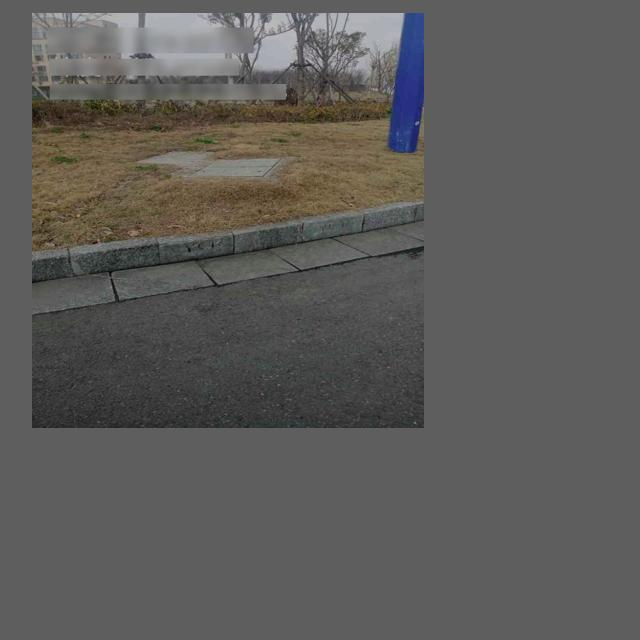good: (150, 138, 296, 178)
